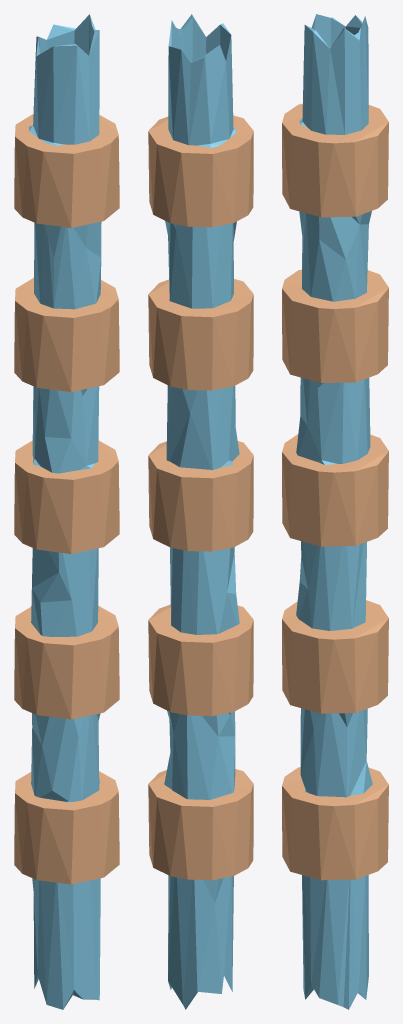
The model's file is piece_5_low.fbx.
The picture shows the model from 3 angles, left to right: view 1: azimuth 30°, elevation 25°; view 2: azimuth 150°, elevation 25°; view 3: azimuth 330°, elevation 25°; orthographic projection.
Visible parts, largest first — view 1: pCylinder5_1; view 2: pCylinder5_1; view 3: pCylinder5_1.
Part boxes in pixels (x1=…): pCylinder5_1: x1=14, y1=14, x2=119, y2=1009; pCylinder5_1: x1=148, y1=14, x2=253, y2=1009; pCylinder5_1: x1=282, y1=14, x2=388, y2=1009.
Size of the model in its own units: 3.63 by 37.26 by 3.59.
